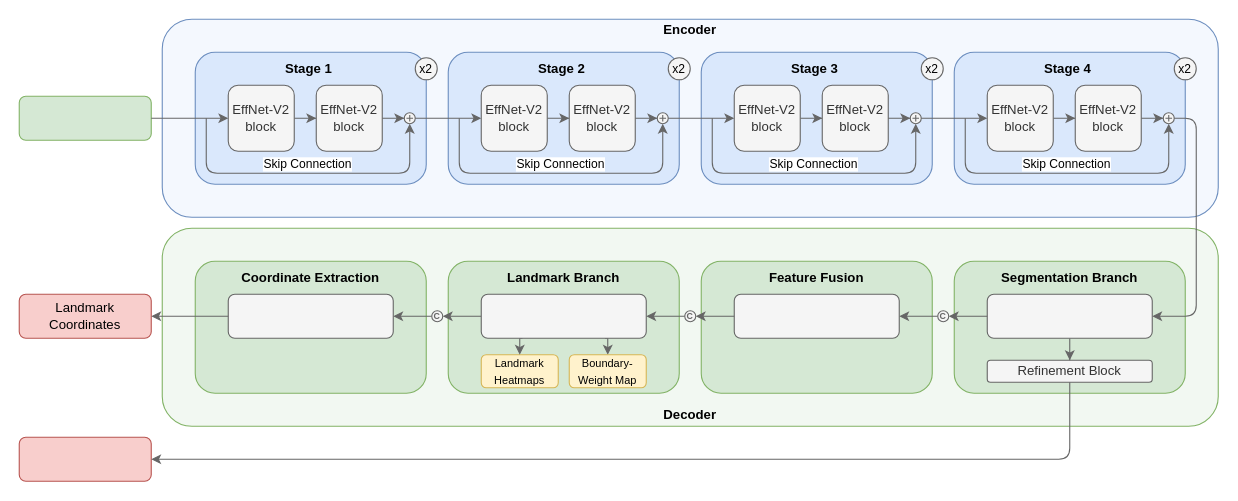
The diagram is 1238 pixels wide and 501 high, and some of its shapes have lost their labels. The centre of each missing label's shape, as x and y in pixels:
"Aortic Root Mask" goes at (x=84, y=458).
"Conv Head + Coordinate Attention" goes at (x=563, y=315).
"Differentiable Soft-Argmax" goes at (x=310, y=315).
"Fluoroscopic Image" goes at (x=84, y=117).
"MA-Net Decoder + Spatial Attention" goes at (x=1069, y=315).
"Segmentation Features + Deep Encoder Features" goes at (x=816, y=315).
